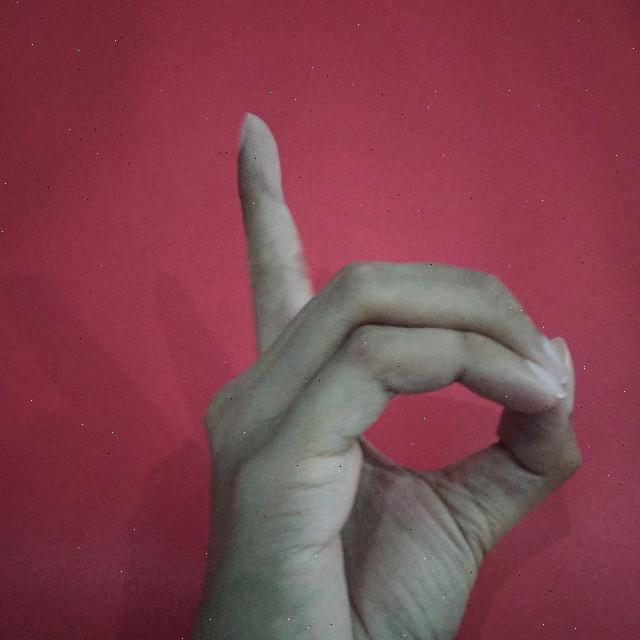D: (181, 106, 597, 640)
